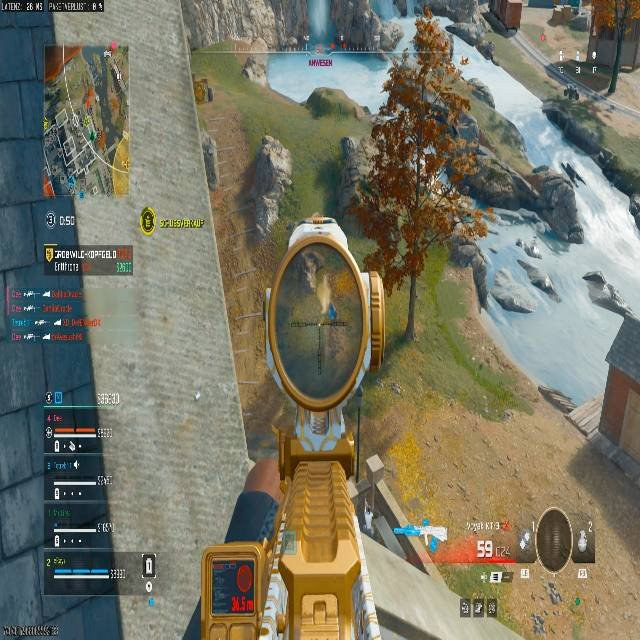player: (231, 135, 290, 259)
